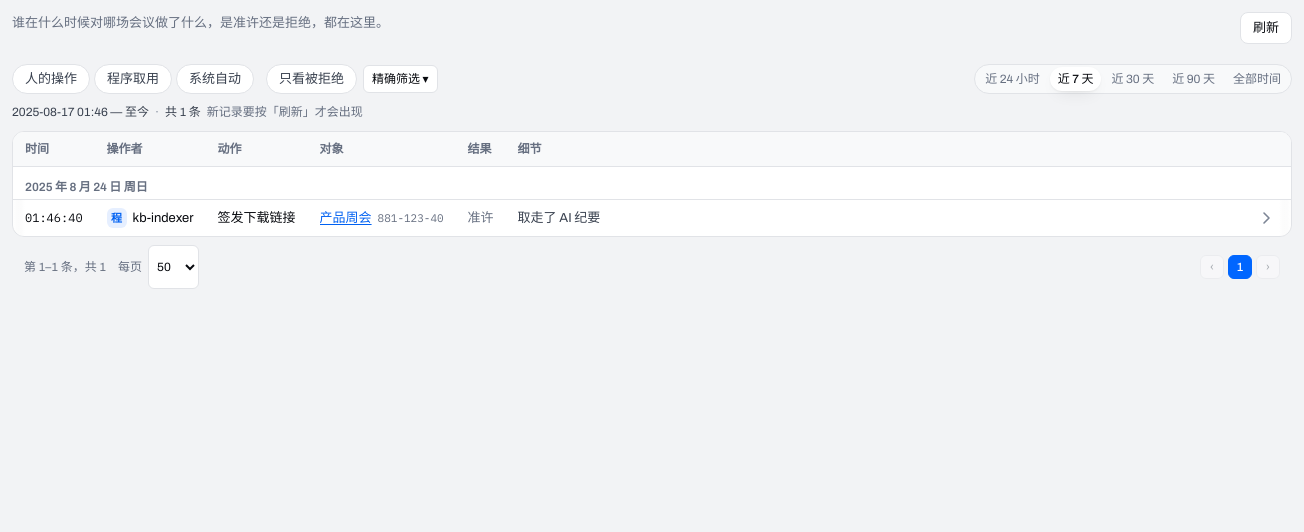
Test: 审计条目 › 展开之后能看到明细全文与其余可回溯字段
Click the button named "完整记录".
click(1267, 218)  # box [1255, 206, 1279, 230]
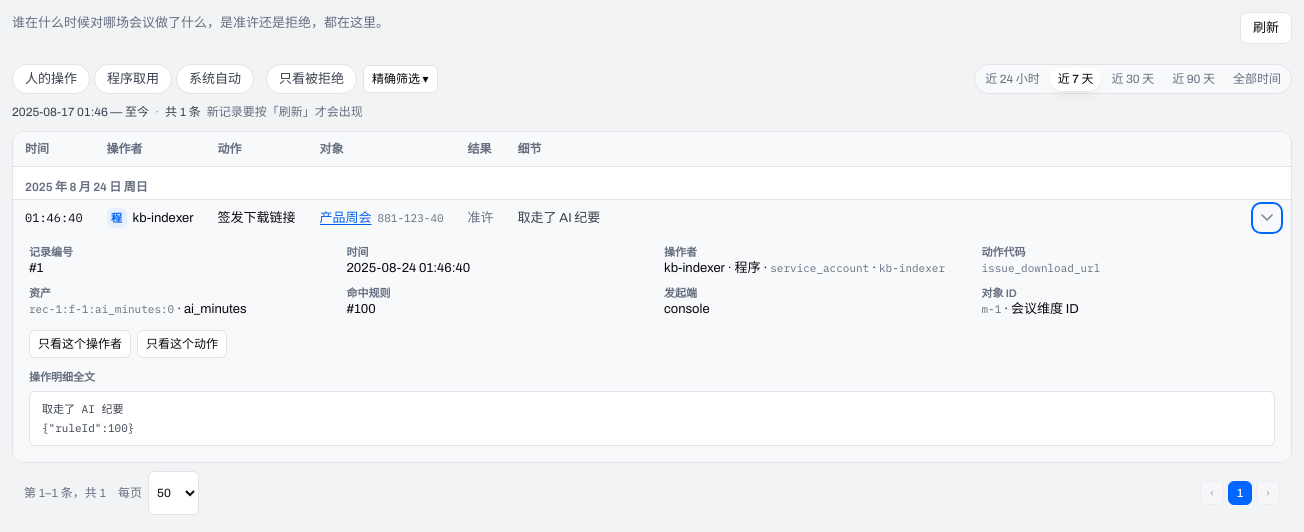
Result: the element with test id "audit-expanded-1" shows "{\"ruleId\":100}" at [42, 402, 134, 435]
Result: the element with test id "audit-expanded-1" shows "rec-1:f-1:ai_minutes:0" at [29, 302, 174, 316]
Result: the element with test id "audit-expanded-1" shows "ai_minutes" at [184, 302, 247, 316]
